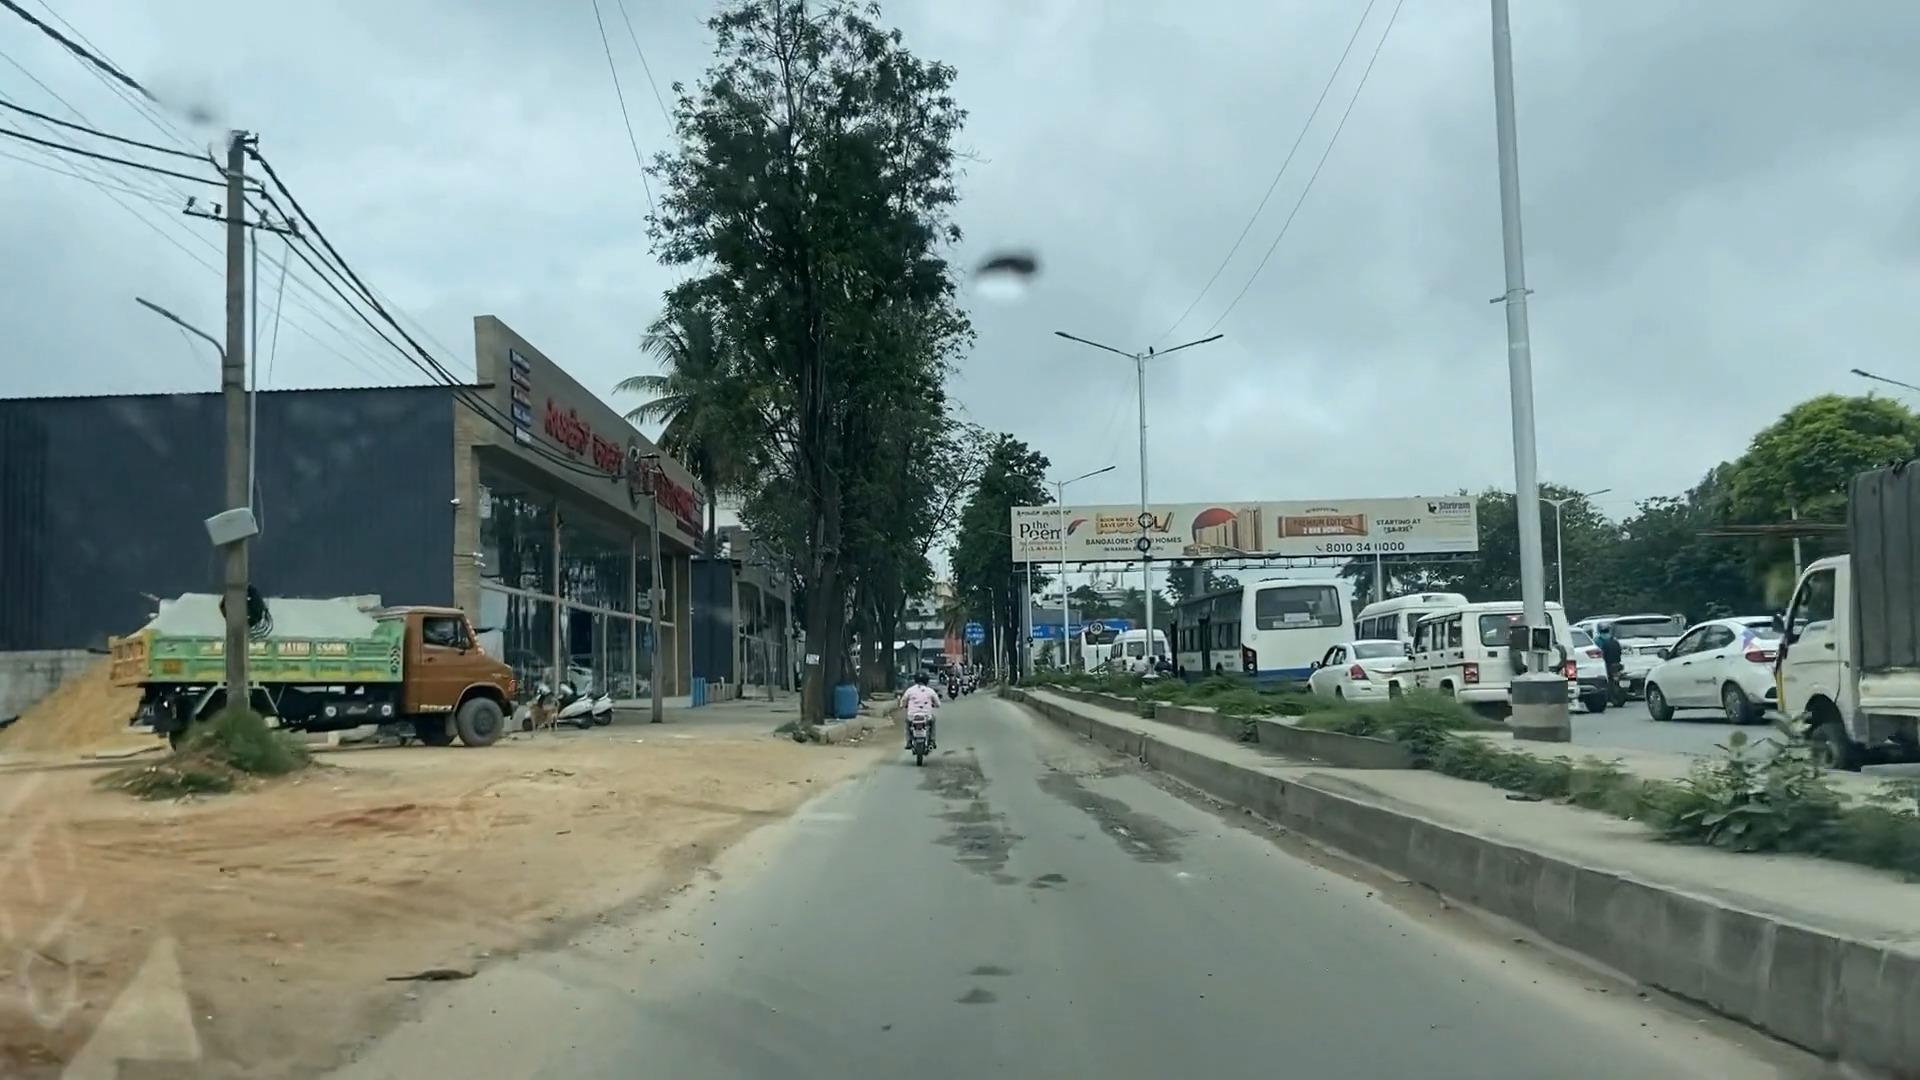RoadDamages: (1056, 770, 1183, 877), (923, 750, 1006, 884), (936, 943, 1034, 1021), (1027, 864, 1071, 915)
